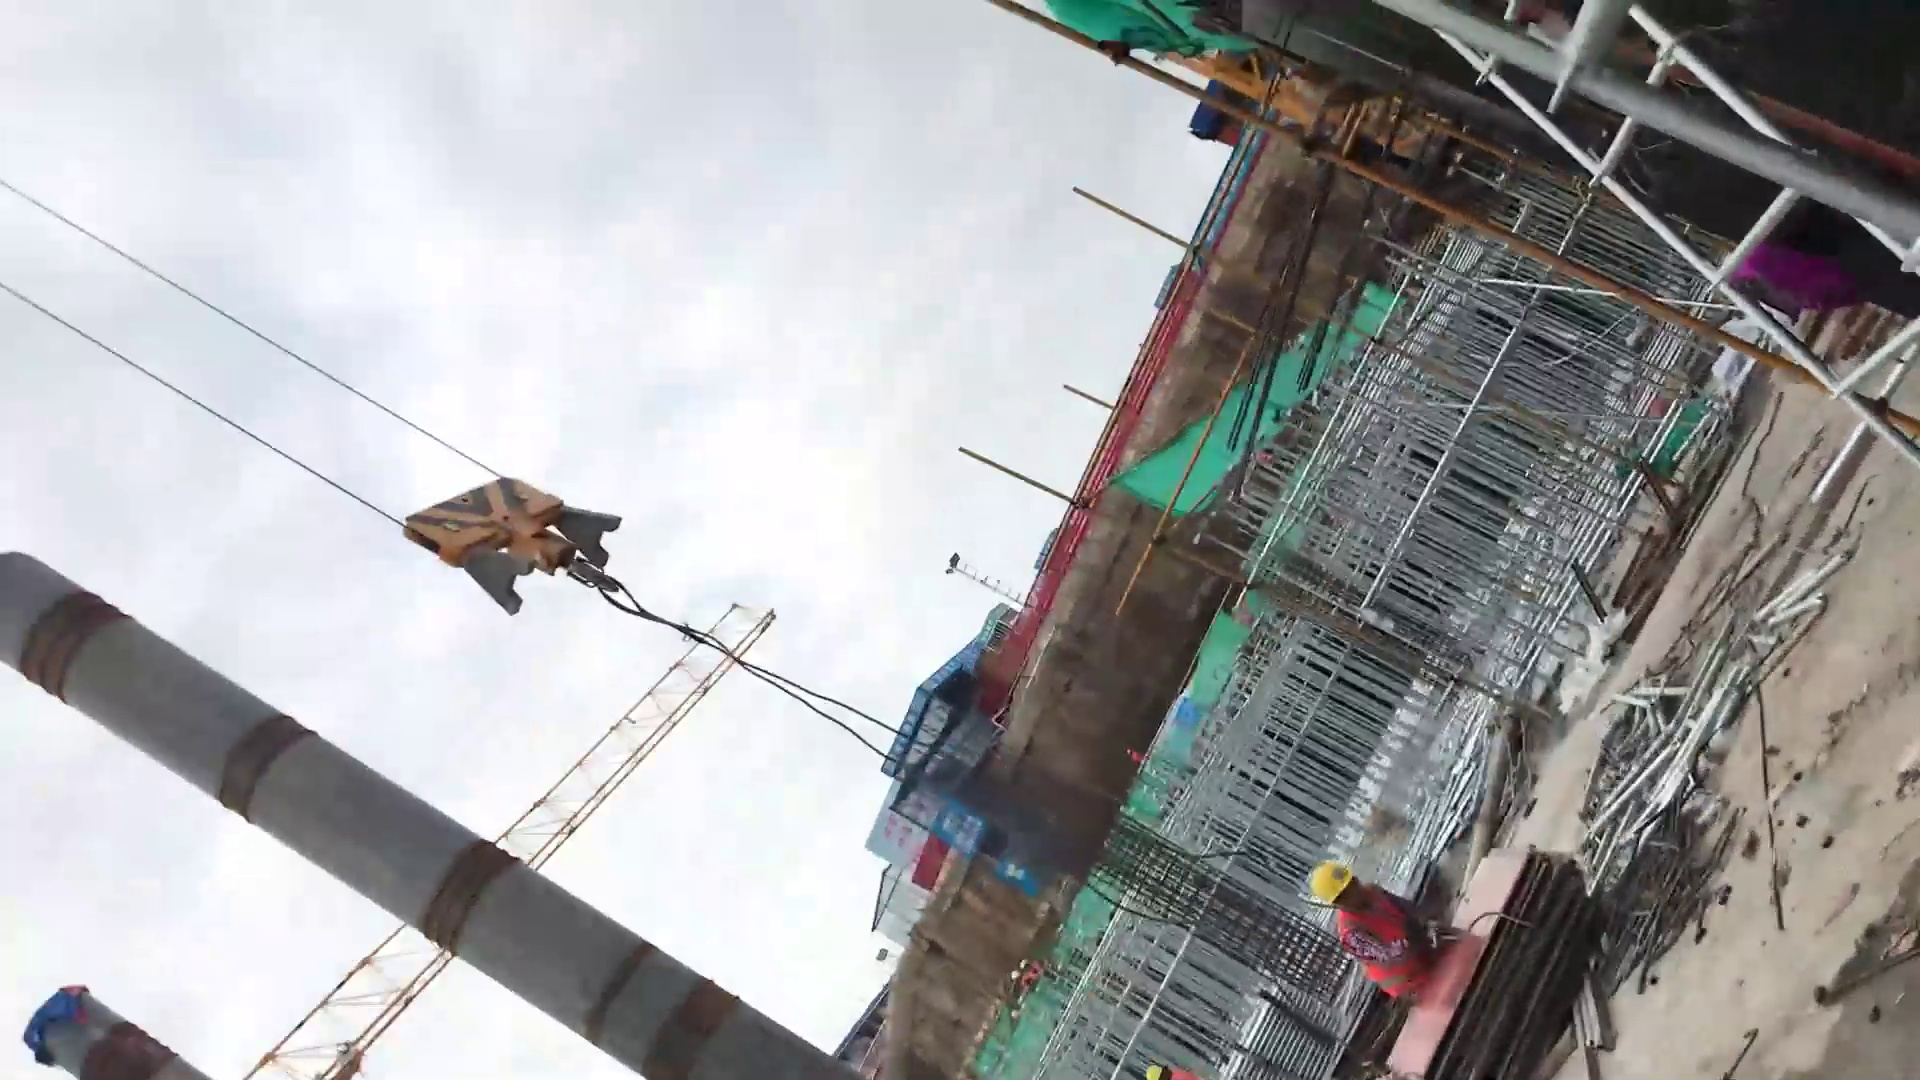helmet: (1307, 862, 1354, 905), (1144, 1062, 1162, 1080), (1009, 968, 1022, 981), (1018, 959, 1033, 969)
hook: (397, 471, 630, 615)
person: (1305, 862, 1443, 1011)
slogan: (879, 603, 1009, 775), (934, 804, 1051, 900)
vest: (1335, 882, 1429, 1001)
